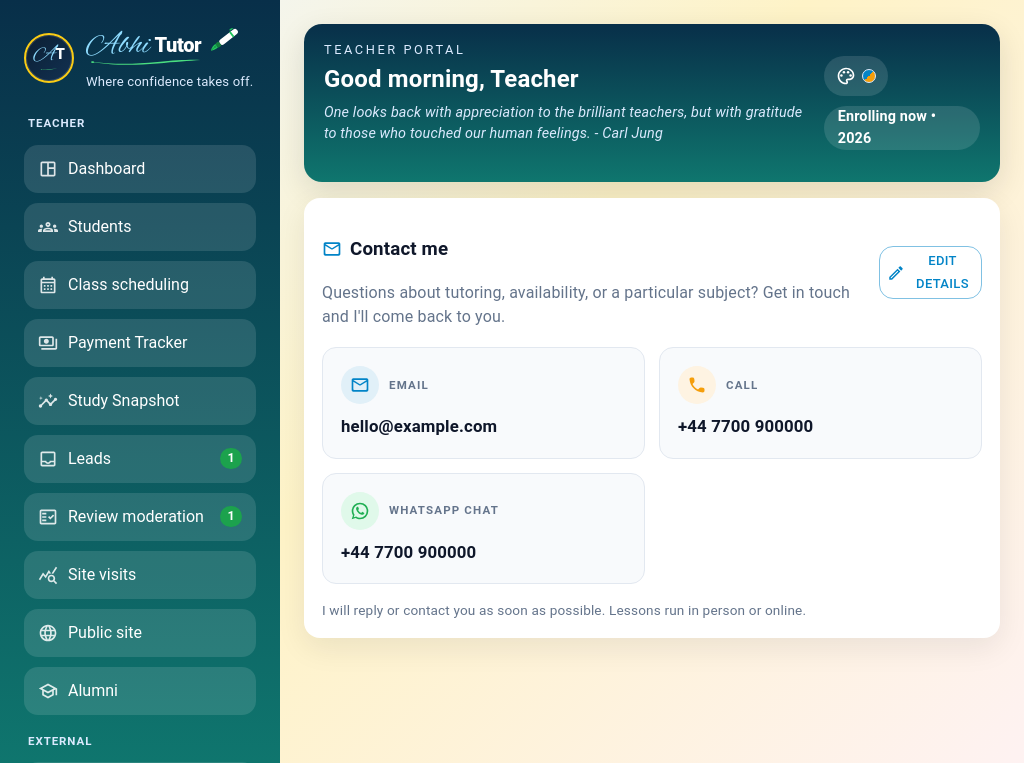
public pages › lets the teacher edit the contact details from the page
// Auth is off in tests, so the visitor is treated as the teacher.
Click the button "Edit details" at (930, 273), box [879,246,982,299]
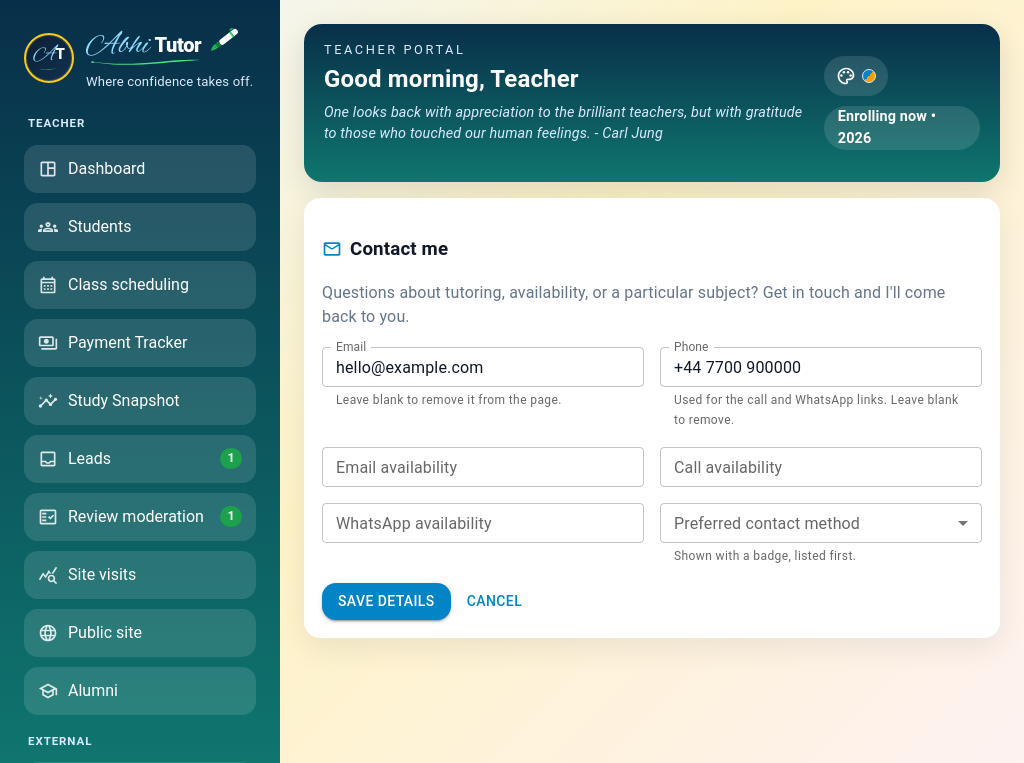
Replace the text in the field labelled "Email" with "new@springboard.test" at (483, 367), box [322,347,644,387]
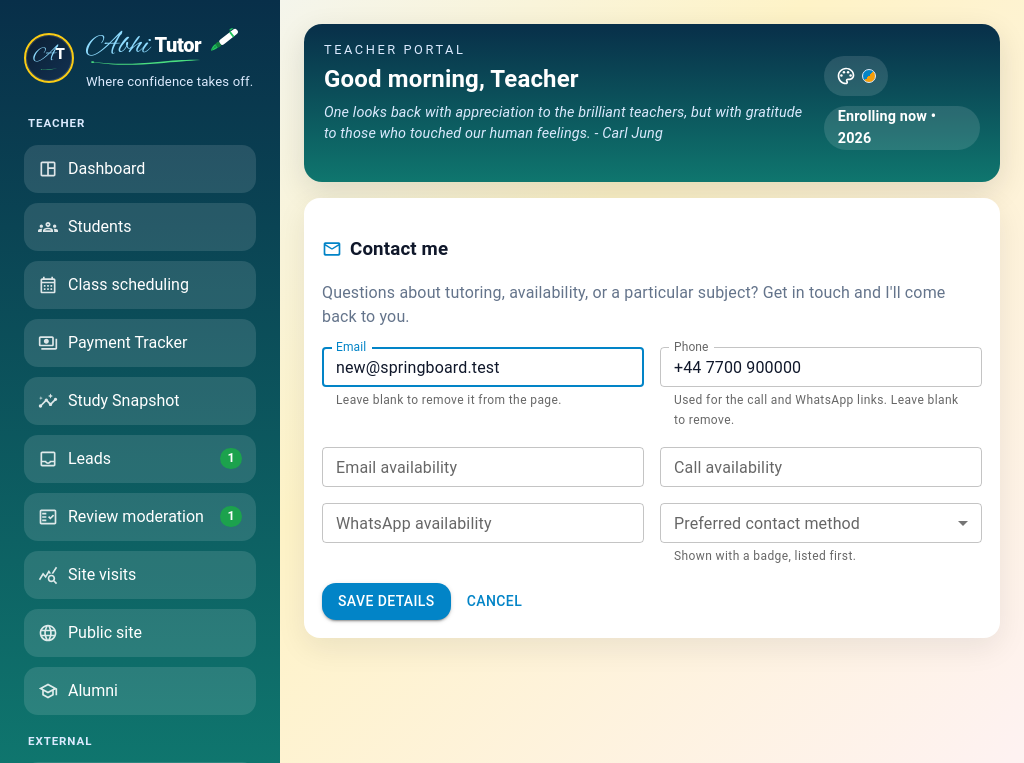
Click the button "Save details" at (386, 601), box [322,583,451,620]
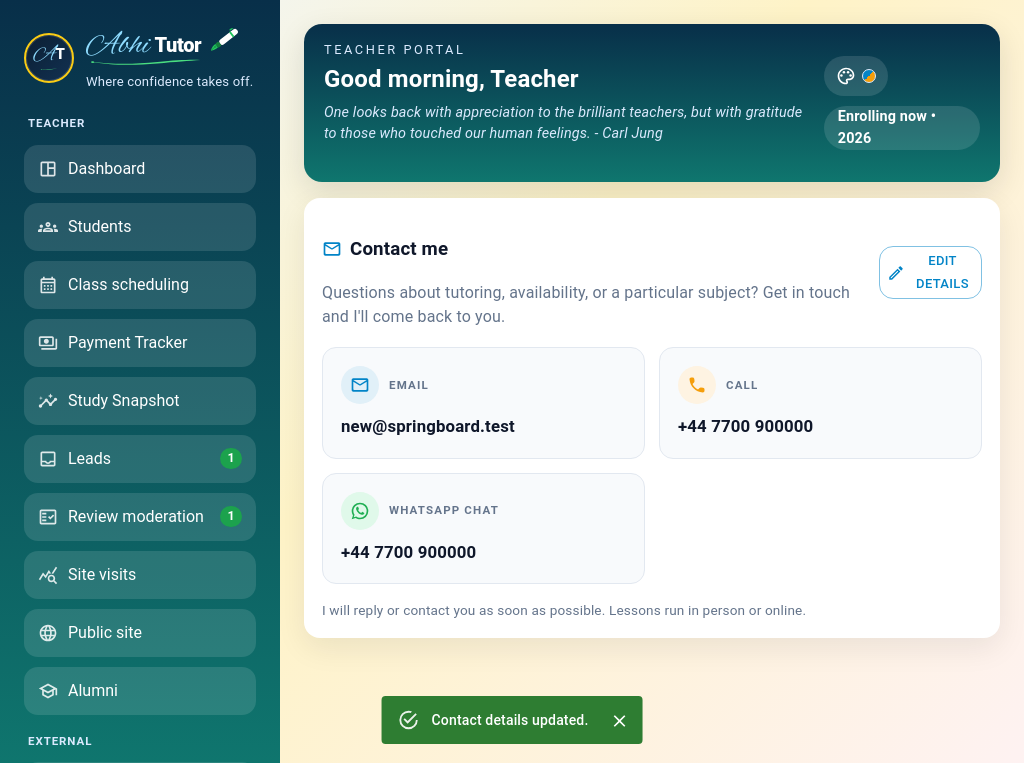
Result: the text "Contact details updated." is shown at [432,712,588,728]
